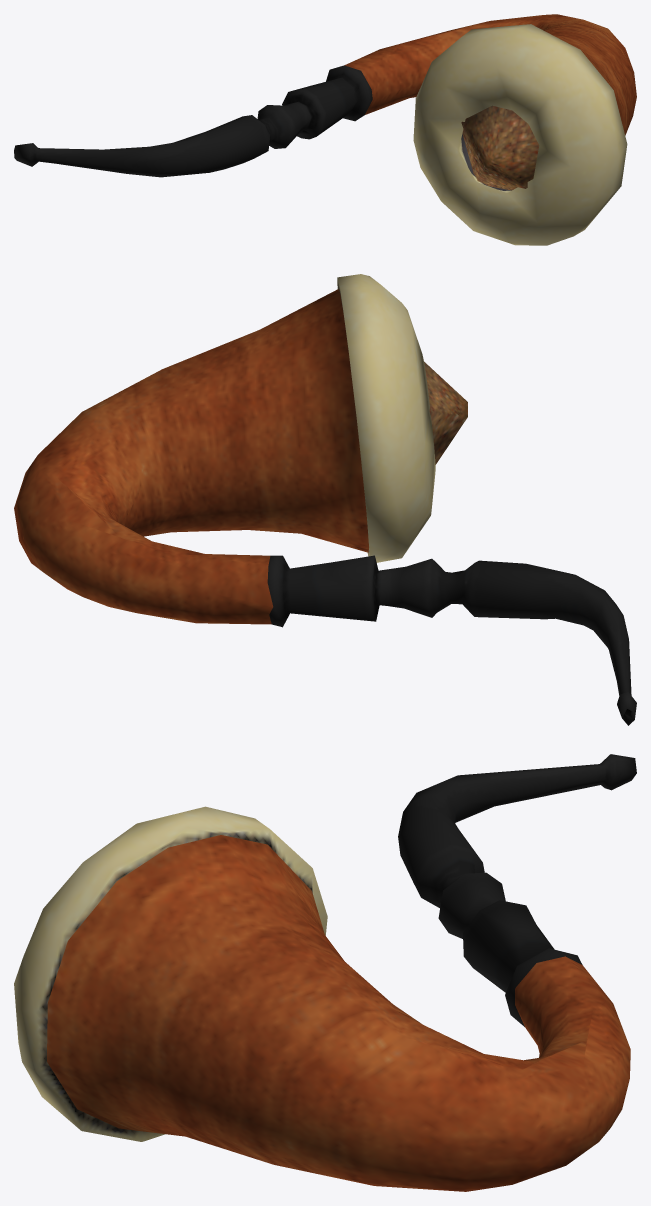
File: SmokePipe2Filled_Ground.fbx
The picture shows the model from 3 angles, top to bottom: view 1: azimuth 30°, elevation 25°; view 2: azimuth 150°, elevation 25°; view 3: azimuth 270°, elevation 25°; orthographic projection. The views are drawn at different scales.
Parts seen in each view (by area): view 1: Pipe; view 2: Pipe; view 3: Pipe.
Boxes of the visible parts, x1=… form: Pipe: x1=14, y1=14, x2=636, y2=245; Pipe: x1=14, y1=274, x2=636, y2=725; Pipe: x1=14, y1=754, x2=636, y2=1191.
Size of the model in its own units: 0.1047 by 0.0386 by 0.0679.
